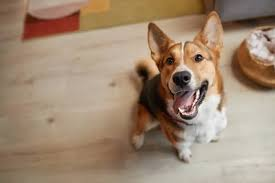dog: (130, 9, 230, 163)
